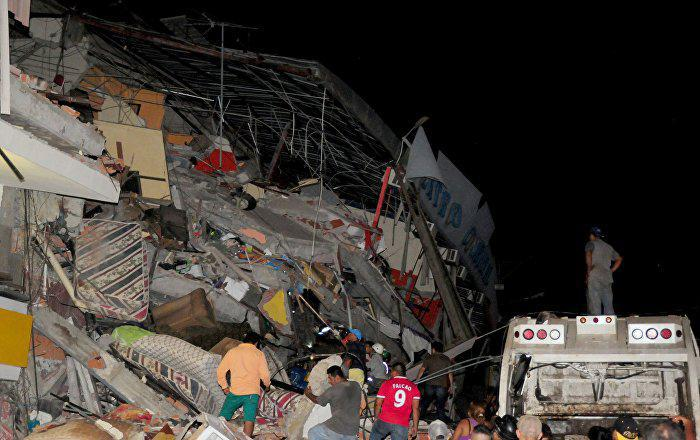destroyed: (0, 0, 501, 397)
